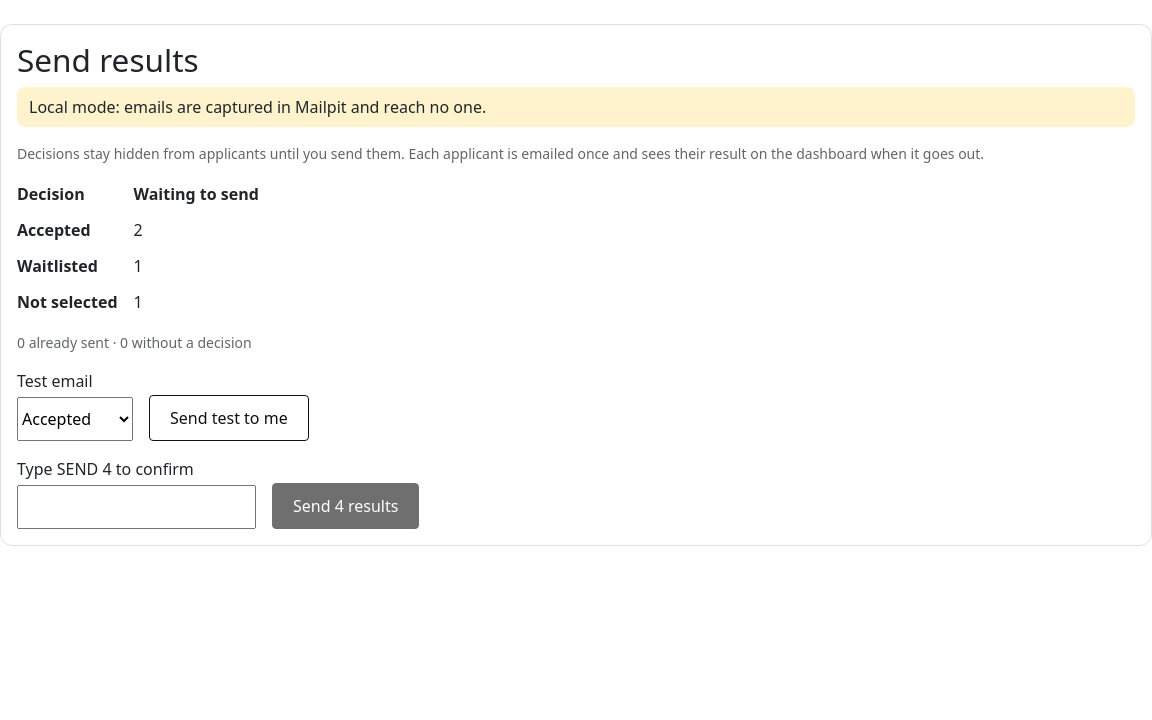
it: ReleaseResultsPanel › keeps send disabled until the exact confirmation is typed
Check: the button "Send 4 results" is disabled, box [272,483,420,529]
Type "SEND 3" into the field labelled "Type SEND 4 to confirm" at (136, 507), box [17,485,256,529]
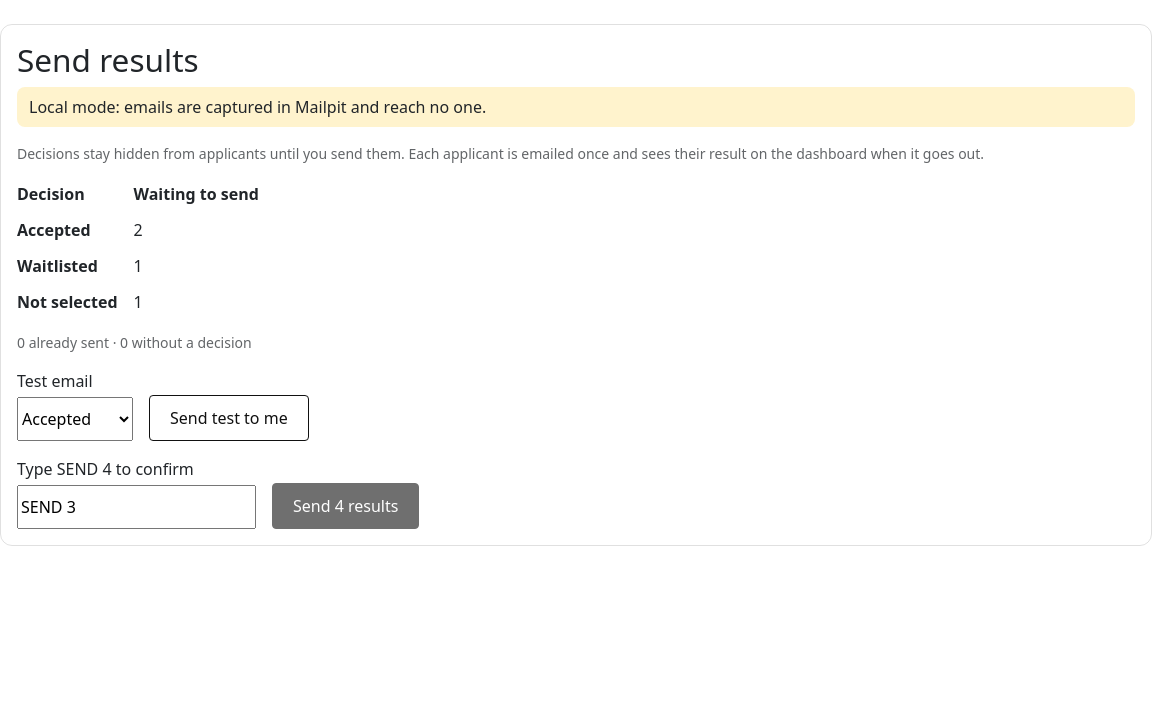
Check: the button "Send 4 results" is disabled, box [272,483,420,529]
Replace the text in the field labelled "Type SEND 4 to confirm" with "SEND 4" at (136, 507), box [17,485,256,529]
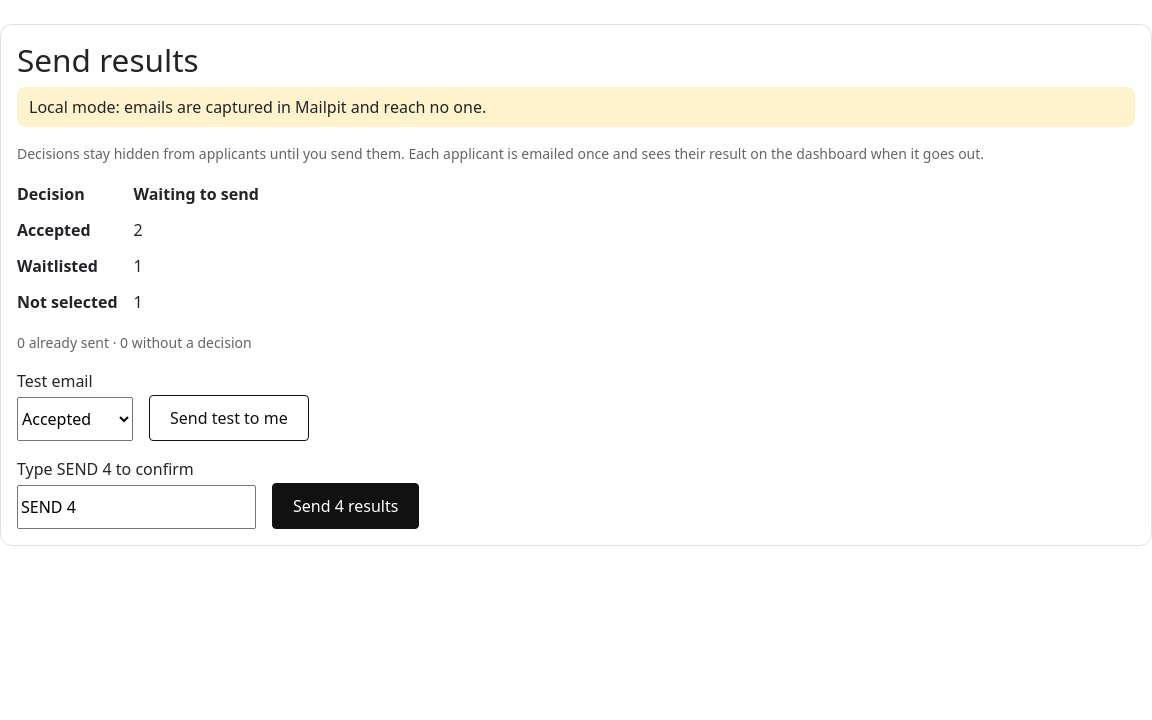
Check: the button "Send 4 results" is enabled, box [272,483,420,529]
